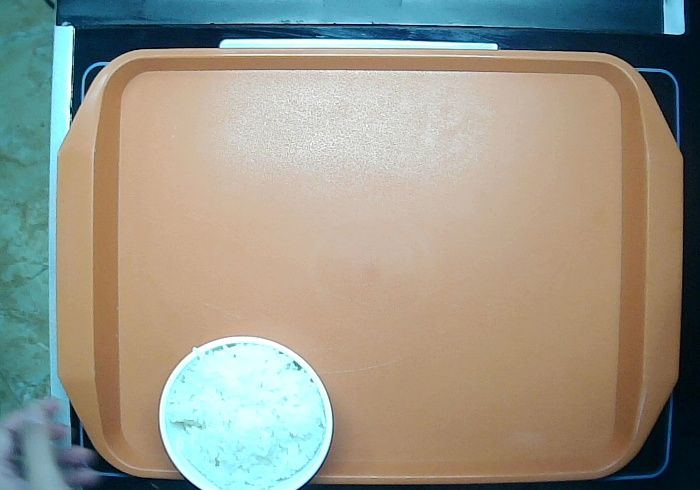HZYJPL-Fan_Wan: (139, 320, 353, 490)
